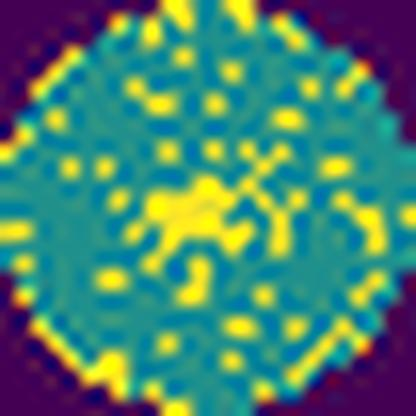Center: (139, 142, 307, 276)
